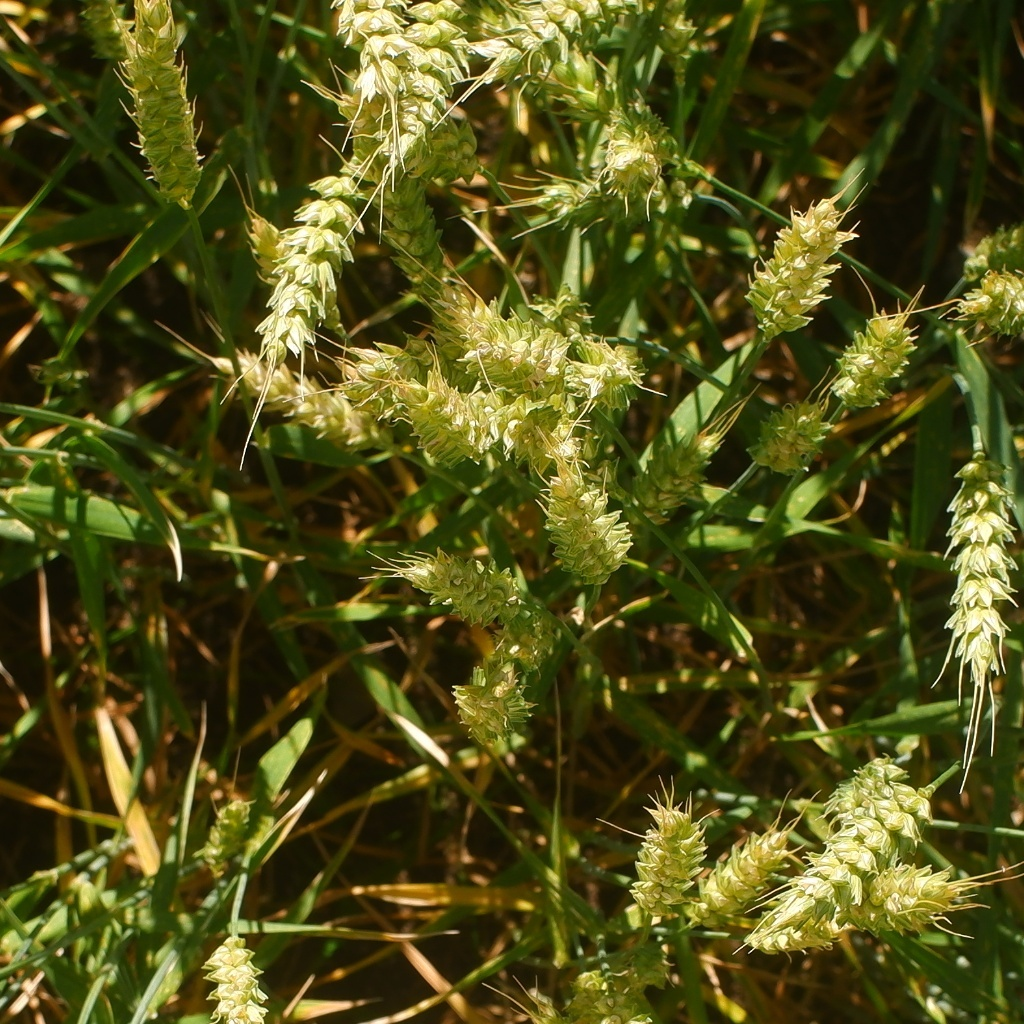NMBU_2: (745, 783, 934, 955), (341, 94, 459, 333), (533, 49, 711, 183), (254, 162, 368, 359), (211, 347, 394, 460), (944, 454, 1021, 693), (436, 294, 587, 397), (128, 0, 201, 206), (742, 197, 852, 330), (384, 1, 472, 158), (241, 207, 348, 335), (483, 0, 638, 85), (344, 336, 478, 425), (541, 461, 632, 586), (682, 829, 789, 932), (402, 549, 541, 624), (404, 369, 510, 461), (832, 864, 960, 939), (628, 806, 709, 920), (836, 312, 918, 408), (624, 437, 720, 517), (453, 658, 537, 743), (543, 176, 696, 222), (337, 1, 401, 104), (202, 931, 270, 1024), (747, 403, 837, 472), (564, 339, 648, 411), (396, 116, 484, 182), (504, 399, 595, 462), (604, 115, 670, 198), (952, 267, 1023, 343), (487, 606, 558, 676), (643, 1, 698, 73), (959, 224, 1024, 283), (834, 755, 907, 806), (75, 3, 133, 63), (204, 795, 251, 865), (531, 286, 594, 337), (626, 936, 679, 988), (565, 968, 613, 1024), (595, 990, 655, 1024), (591, 455, 628, 502), (523, 999, 570, 1024), (525, 999, 570, 1024)
